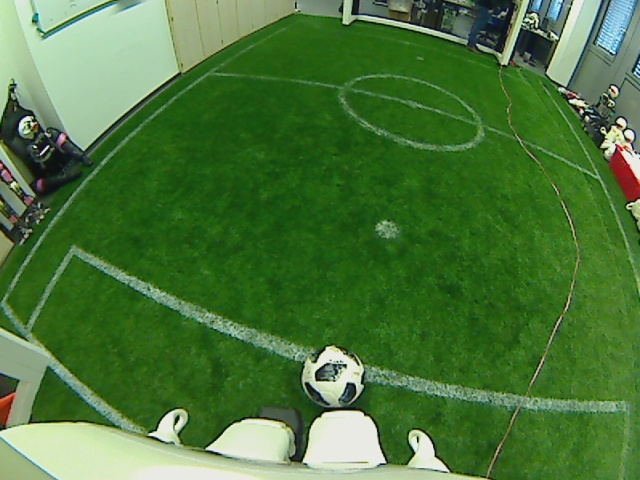ball: (301, 342, 365, 410)
